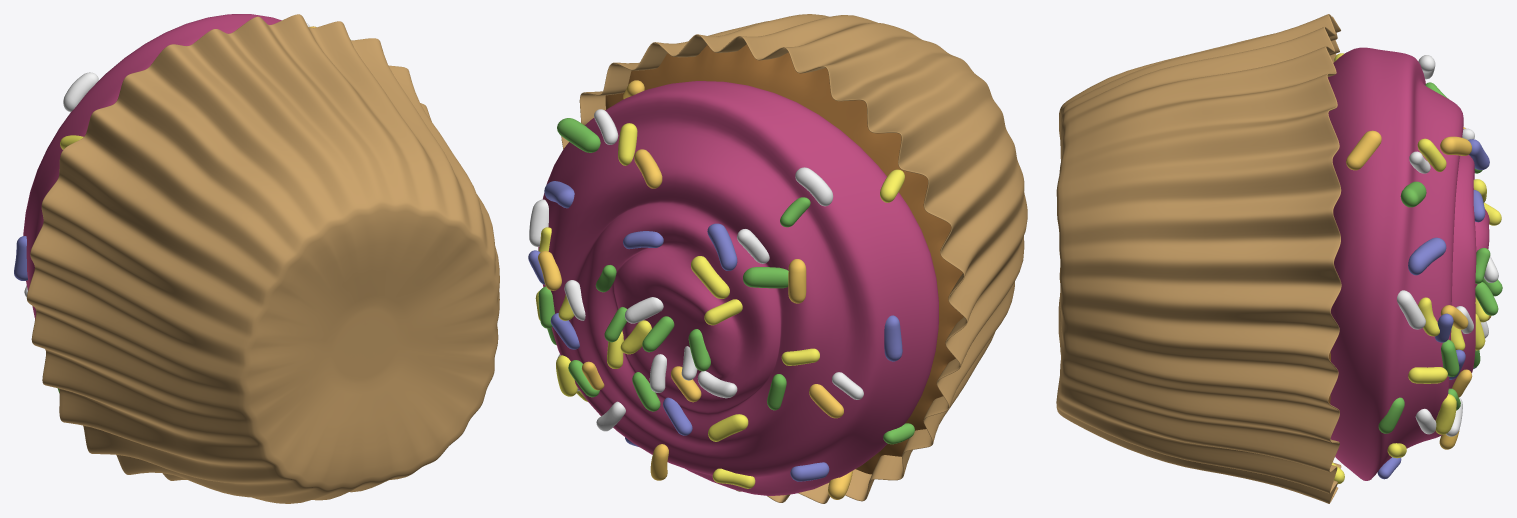
The model's file is cupcake.fbx.
3 views of the same model, side by side, from view 1: azimuth 30°, elevation 25°; view 2: azimuth 150°, elevation 25°; view 3: azimuth 270°, elevation 25° (orthographic). The views are drawn at different scales.
Parts seen in each view (by area): view 1: cupcake; view 2: cupcake; view 3: cupcake.
Boxes of the visible parts, x1,y1,x2,y2 form: cupcake: (14,14,499,503); cupcake: (528,14,1027,503); cupcake: (1056,14,1502,503).
Bounding box in the file's own units: 813 × 850 × 773.
